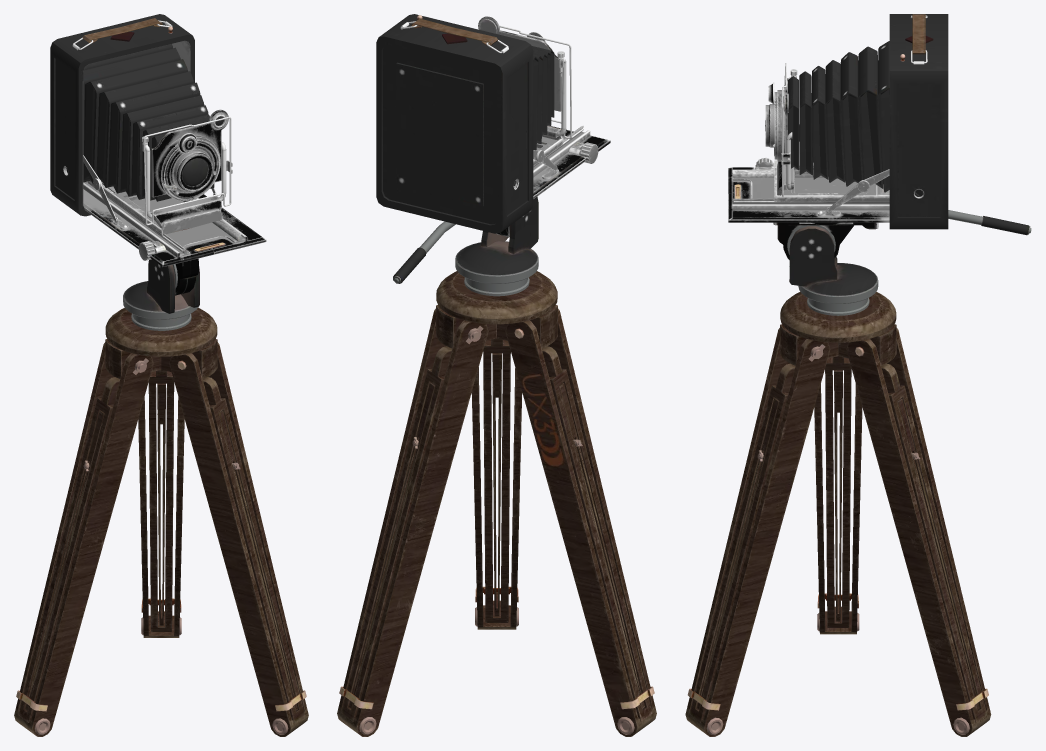
The model's file is AntiqueCamera-ph.glb.
3 renders of one model, left to right at view 1: azimuth 30°, elevation 25°; view 2: azimuth 150°, elevation 25°; view 3: azimuth 270°, elevation 25°, orthographic. The views are drawn at different scales.
Visible parts, largest first — view 1: tripod, camera; view 2: tripod, camera; view 3: tripod, camera.
Boxes of the visible parts, box(x1,y1,x2,y2) form: tripod: box(14, 258, 308, 736); camera: box(50, 14, 266, 266); tripod: box(337, 196, 656, 736); camera: box(376, 14, 610, 233); tripod: box(685, 210, 1031, 736); camera: box(728, 14, 948, 229).
Bounding box in the file's own units: 2.6 × 7.21 × 3.39.
Materials: 2 (2 with a texture image).
